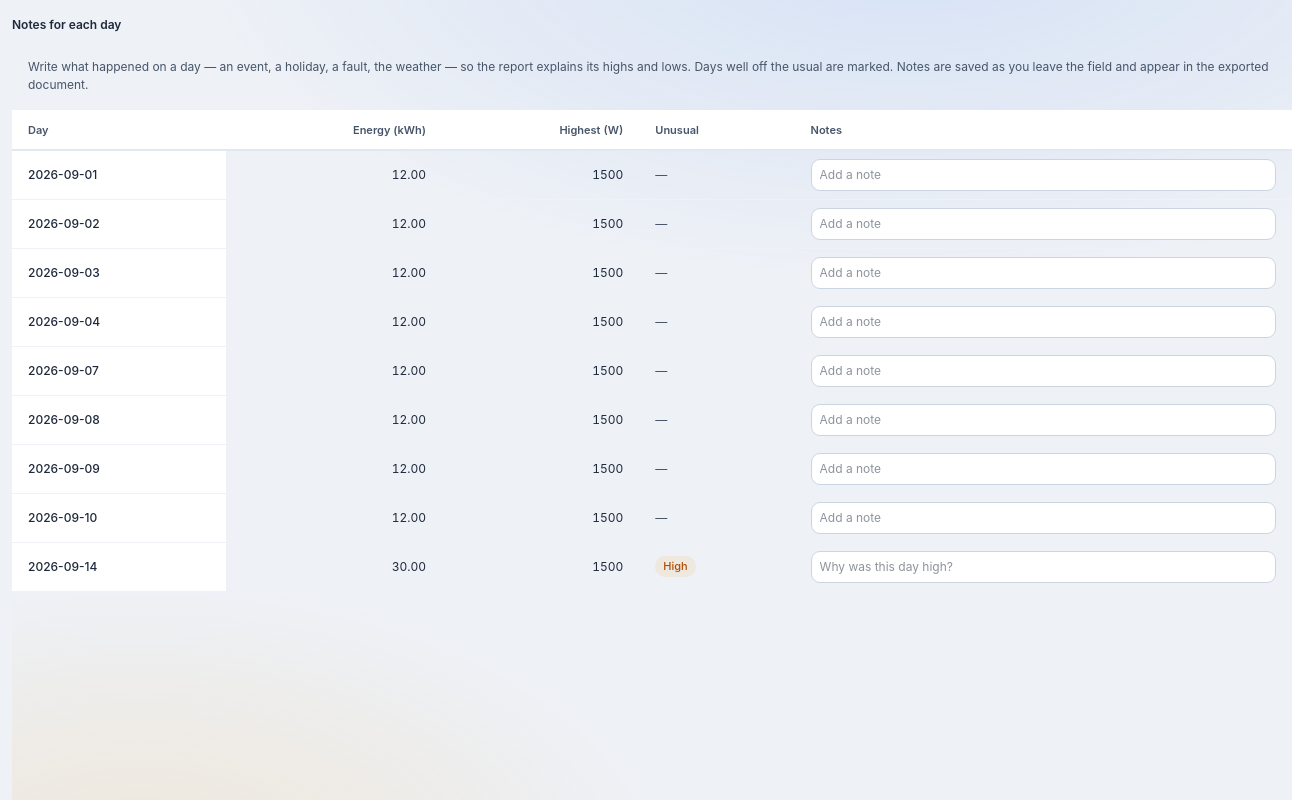
Scenario: DayNotesTable › saves a note when the field is left, and says so
Type "Both aircons on for a visit" into the field named "Note for 2026-09-14".
click(1043, 566); type("Both aircons on for a visit")  # box 811,550 -> 1276,582
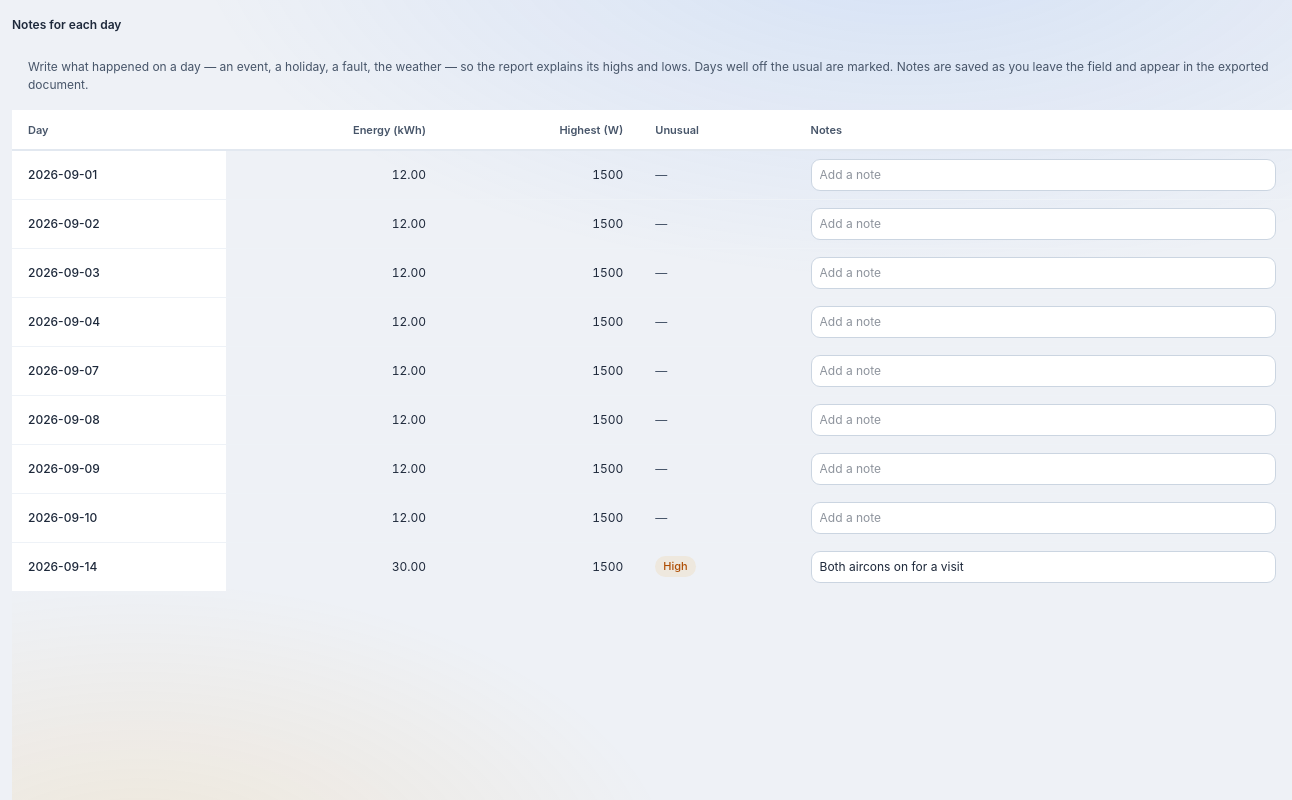
Leave the field named "Note for 2026-09-14", box 811,550 -> 1276,582
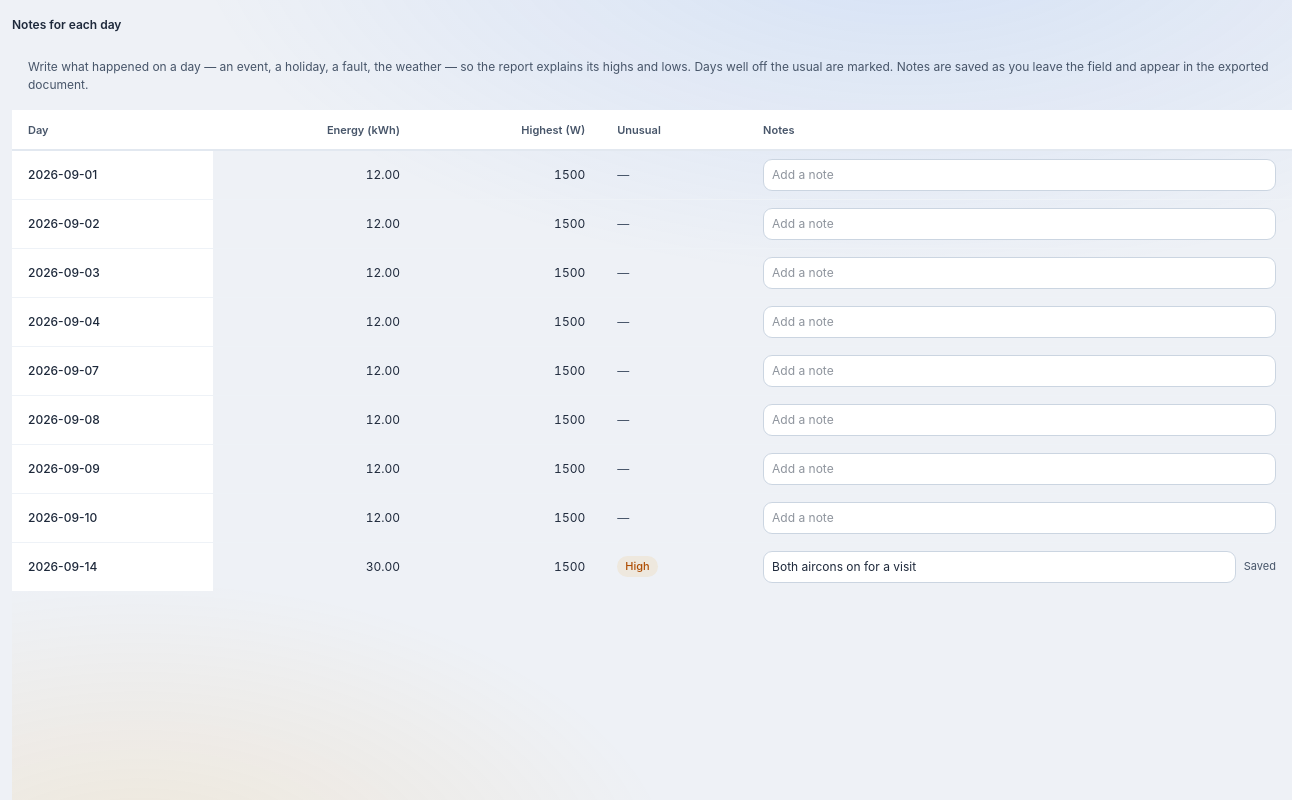
Check: the text "Saved" is shown, box 1244,558 -> 1276,575
